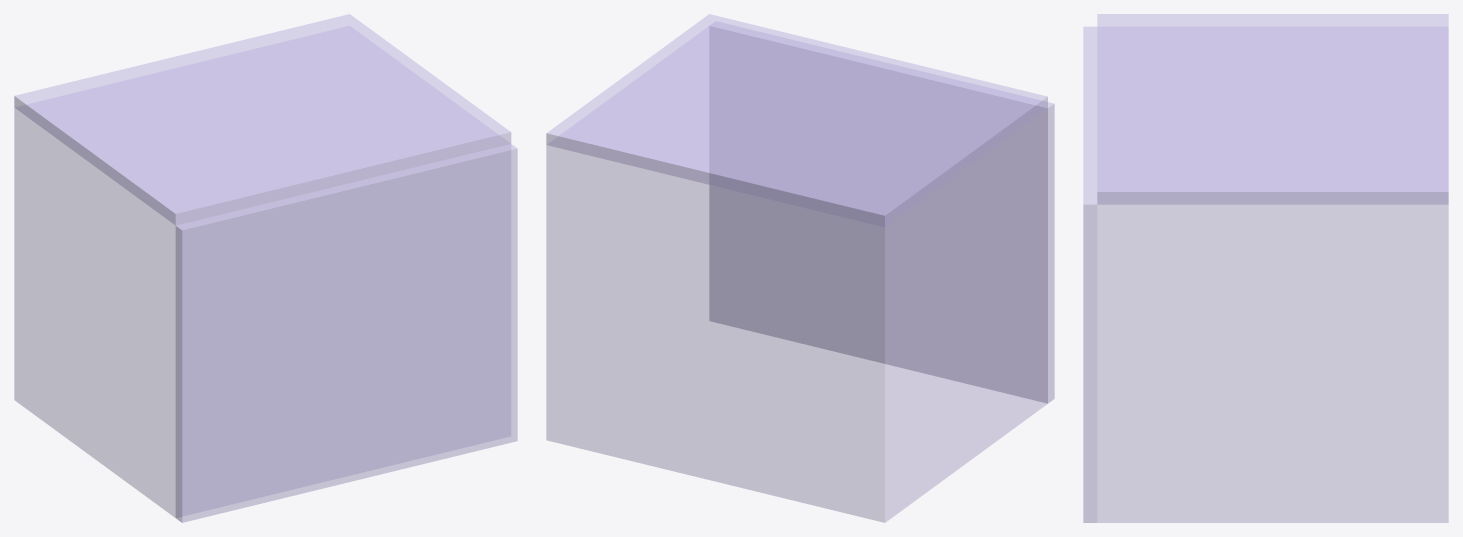
File: data-structure.glb
3 views of the same model, side by side, from view 1: azimuth 30°, elevation 25°; view 2: azimuth 150°, elevation 25°; view 3: azimuth 270°, elevation 25° (orthographic). The views are drawn at different scales.
Parts seen in each view (by area): view 1: ds_body, ds_front, ds_top; view 2: ds_body, ds_front, ds_top; view 3: ds_body, ds_top, ds_front.
Part boxes in pixels (bbox=[...]): ds_body: bbox=[14, 26, 510, 517]; ds_front: bbox=[175, 144, 517, 522]; ds_top: bbox=[14, 14, 511, 225]; ds_body: bbox=[546, 26, 1047, 522]; ds_front: bbox=[709, 21, 1054, 403]; ds_top: bbox=[546, 14, 1047, 227]; ds_body: bbox=[1097, 27, 1448, 522]; ds_top: bbox=[1097, 14, 1448, 204]; ds_front: bbox=[1083, 26, 1097, 522].
Size of the model in its own units: 1.26 by 1.1 by 1.1.
